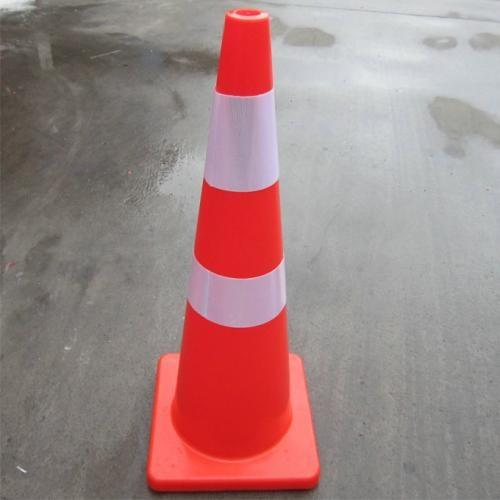cone_barrel: (149, 18, 311, 484)
